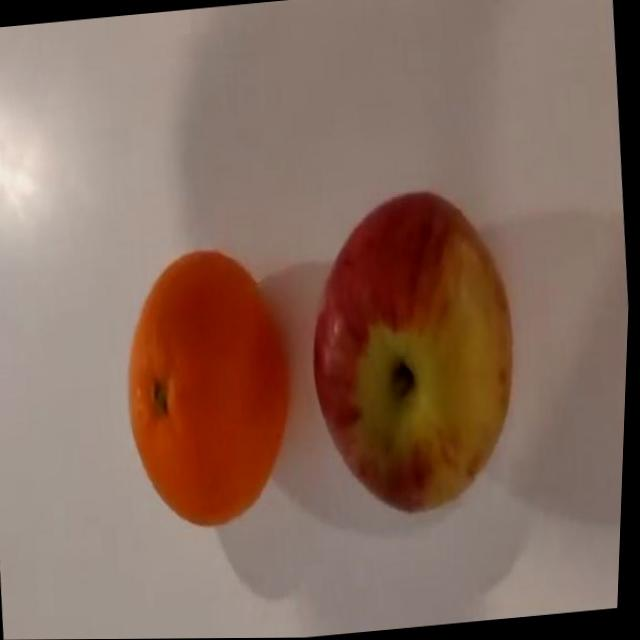Apple: (297, 184, 535, 524)
Orange: (115, 242, 309, 535)
